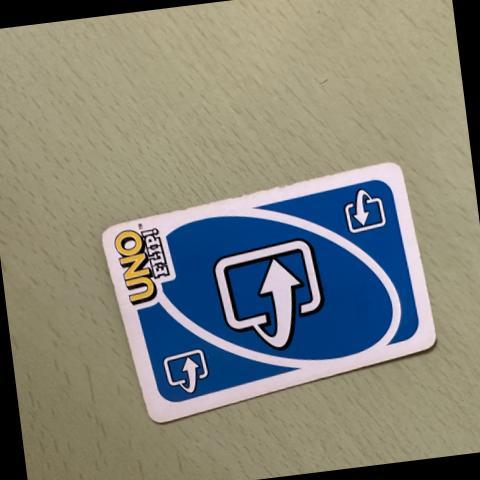lblueflip-20: (144, 329, 228, 408)
